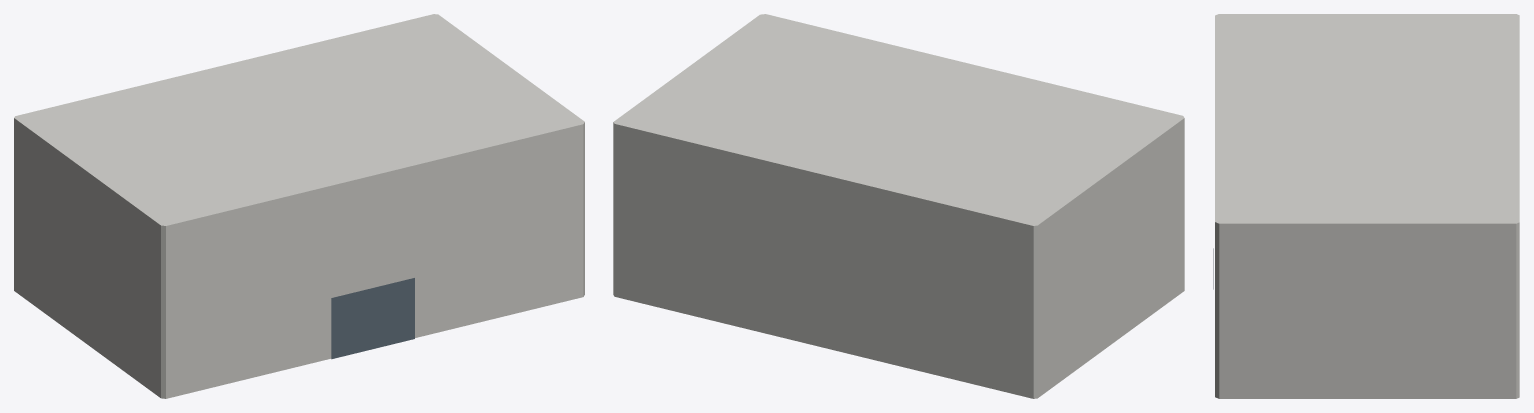
Rendered from loin-etape-1.glb.
3 views of the same model, side by side, from view 1: azimuth 30°, elevation 25°; view 2: azimuth 150°, elevation 25°; view 3: azimuth 270°, elevation 25° (orthographic).
Visible parts, largest first — view 1: loin; view 2: loin; view 3: loin.
Boxes of the visible parts, box(x1,y1,x2,y2) form: loin: box(14, 14, 584, 398); loin: box(613, 14, 1184, 398); loin: box(1213, 14, 1519, 398).
Bounding box in the file's own units: 0.8959 × 0.3489 × 0.5524.
